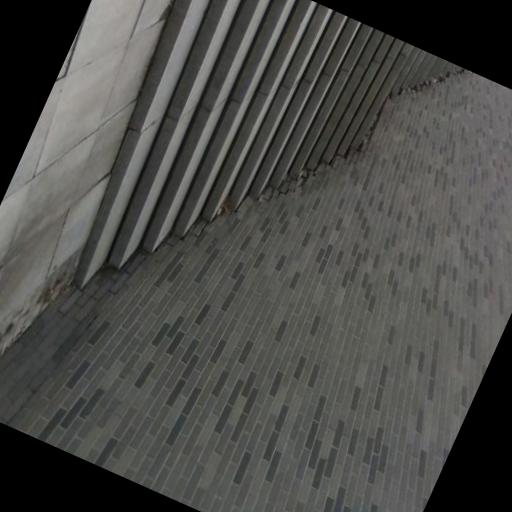stairs: (76, 0, 461, 285)
